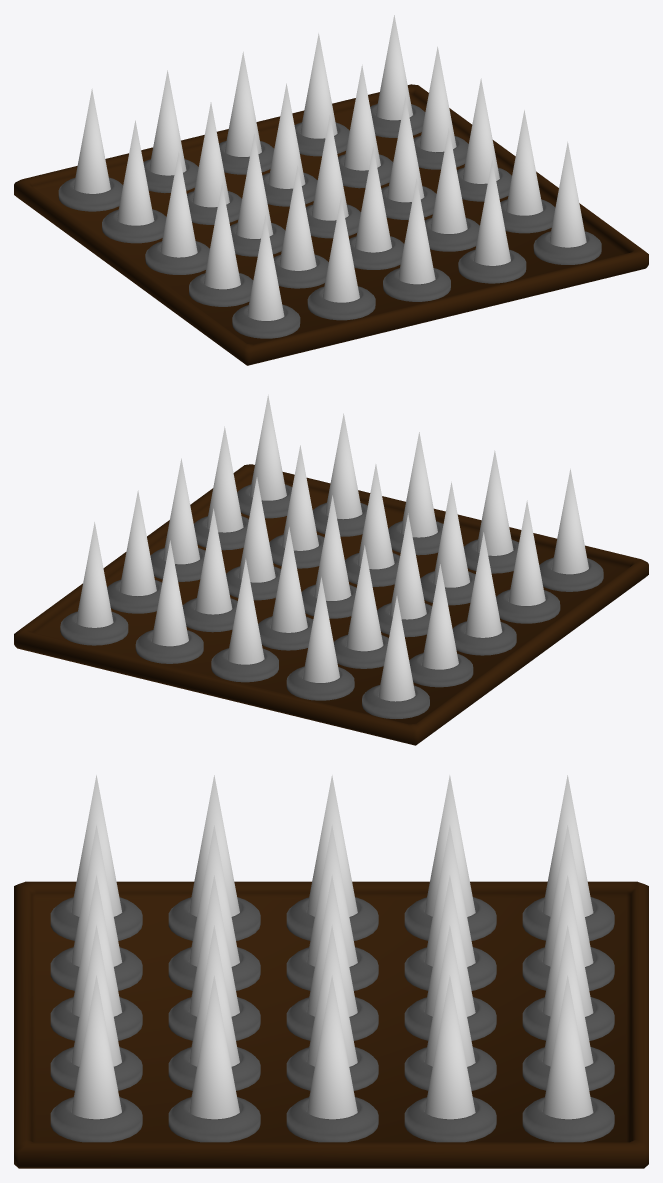
The model's file is spike_trap.fbx.
The picture shows the model from 3 angles, top to bottom: view 1: azimuth 30°, elevation 25°; view 2: azimuth 150°, elevation 25°; view 3: azimuth 270°, elevation 25°; orthographic projection. The views are drawn at different scales.
Parts seen in each view (by area): view 1: Cone, Cube, Cylinder; view 2: Cone, Cube, Cylinder; view 3: Cube, Cone, Cylinder.
Boxes of the visible parts, x1,y1,x2,y2 form: Cone: (73, 15, 586, 320); Cube: (14, 84, 648, 365); Cylinder: (58, 104, 601, 338); Cone: (75, 394, 588, 701); Cube: (14, 464, 648, 745); Cylinder: (60, 484, 603, 718); Cube: (14, 881, 648, 1168); Cone: (71, 775, 593, 1119); Cylinder: (50, 897, 614, 1142).
Bounding box in the file's own units: 1000 × 280 × 1000.
